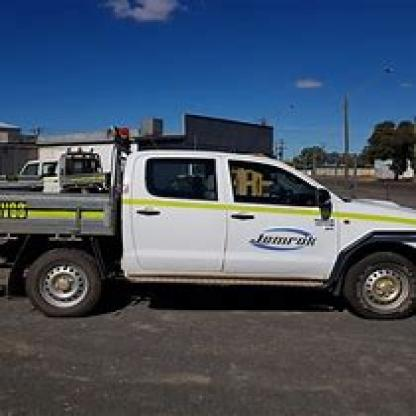light_vehicle: (4, 132, 414, 326)
